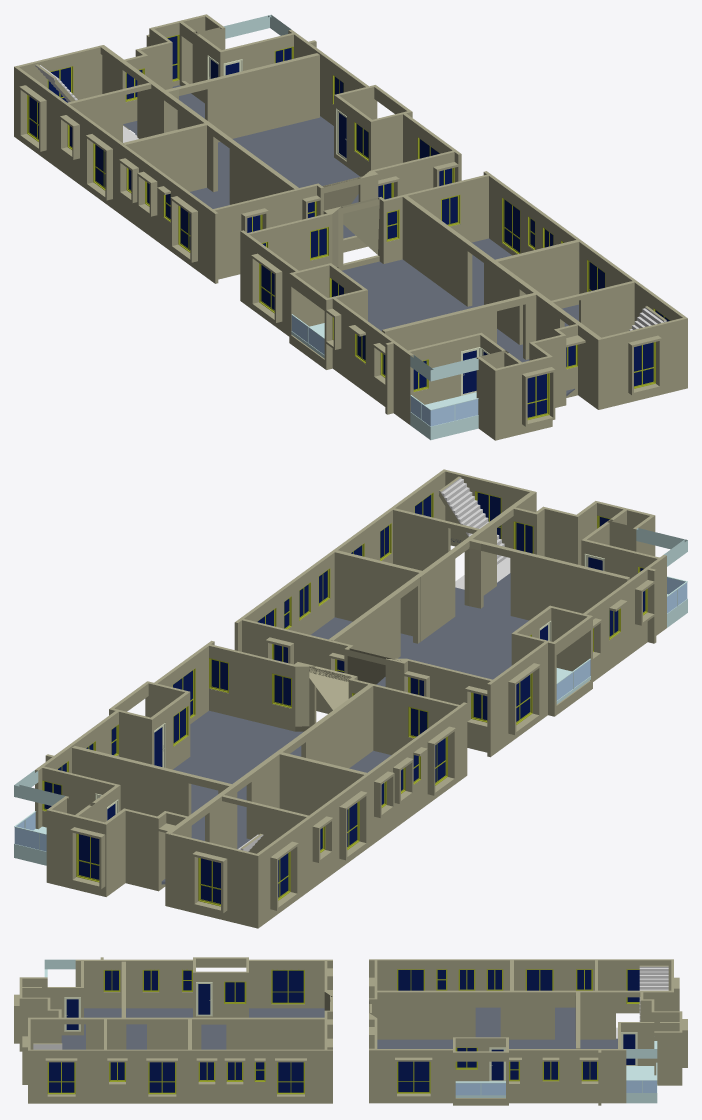
Rendered from apartment_single-floor-merged-boolean_applied_merged-multibuilding.fbx.
The picture shows the model from 3 angles, top to bottom: view 1: azimuth 30°, elevation 25°; view 2: azimuth 150°, elevation 25°; view 3: azimuth 270°, elevation 25°; orthographic projection. The views are drawn at different scales.
Visible parts, largest first — view 1: Plane.001; view 2: Plane.001; view 3: Plane.001.
Boxes of the visible parts, left/top/right/bottom form: Plane.001: left=14, top=14, right=687, bottom=440; Plane.001: left=14, top=469, right=687, bottom=928; Plane.001: left=14, top=957, right=687, bottom=1105.
Bounding box in the file's own units: 14345 × 3715 × 42444.
